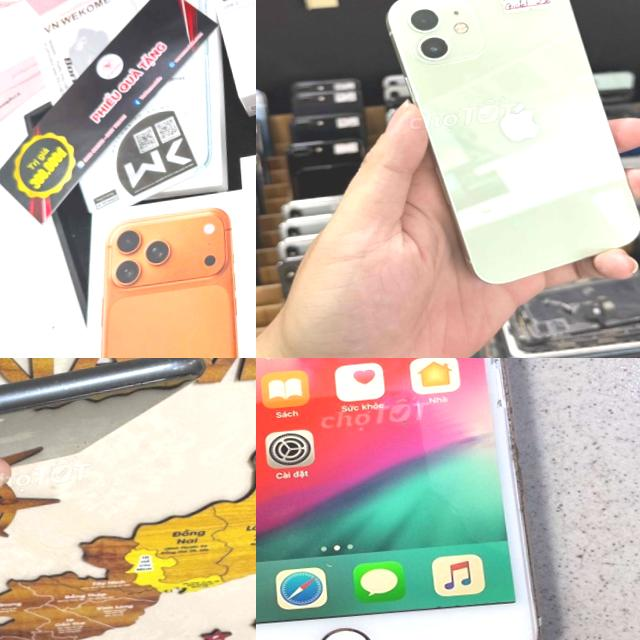gen_12_13: (374, 0, 640, 295)
gen_6: (256, 358, 535, 640)
gen_7_8: (0, 358, 216, 488)
